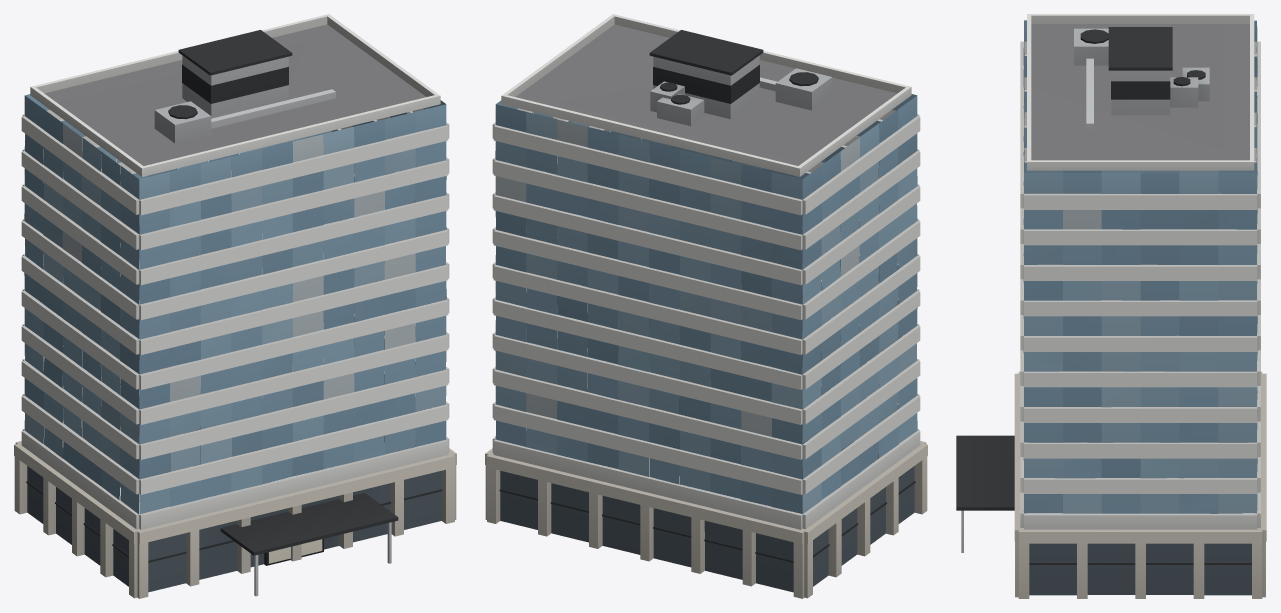
Rendered from bureau0.glb.
3 renders of one model, left to right at view 1: azimuth 30°, elevation 25°; view 2: azimuth 150°, elevation 25°; view 3: azimuth 270°, elevation 25°, orthographic.
Visible parts, largest first — view 1: bureau0; view 2: bureau0; view 3: bureau0.
Boxes of the visible parts, <box> form: bureau0: <box>14,14,456,598</box>; bureau0: <box>485,14,927,598</box>; bureau0: <box>956,14,1266,598</box>.
Size of the model in its own units: 35.8 by 49.13 by 29.3.
